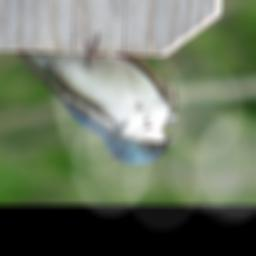Swallow: (12, 32, 182, 167)
